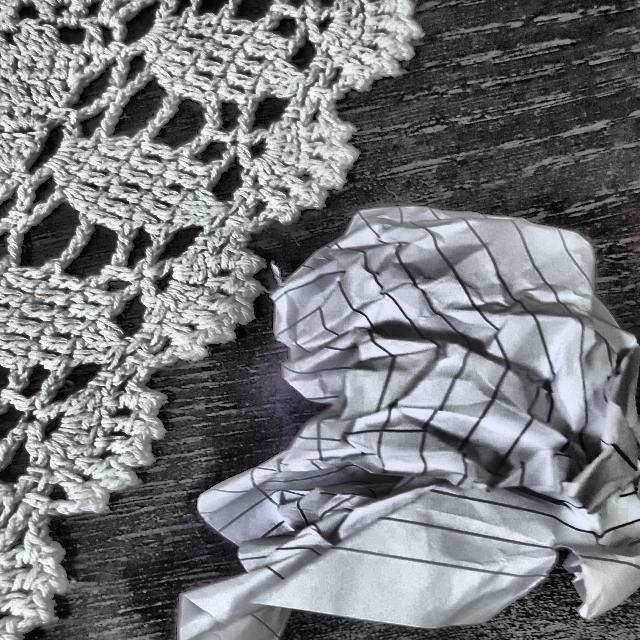paper: (184, 201, 640, 639)
